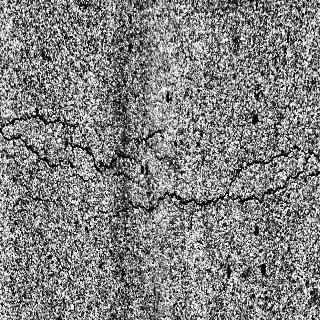crack: (1, 101, 129, 222), (147, 181, 287, 230), (230, 143, 320, 209)
